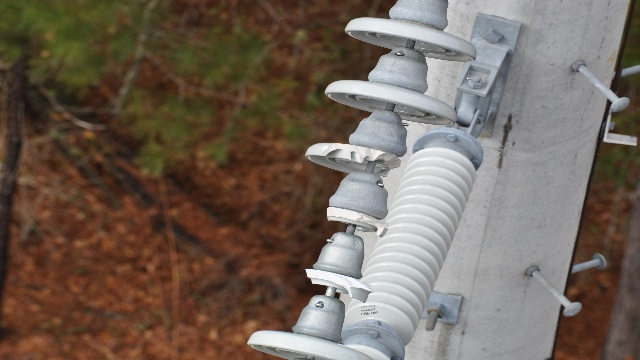broken_local: (322, 139, 401, 175), (303, 265, 374, 303), (323, 203, 388, 238)
insulator_unspecified: (248, 14, 478, 359), (343, 147, 478, 346)
